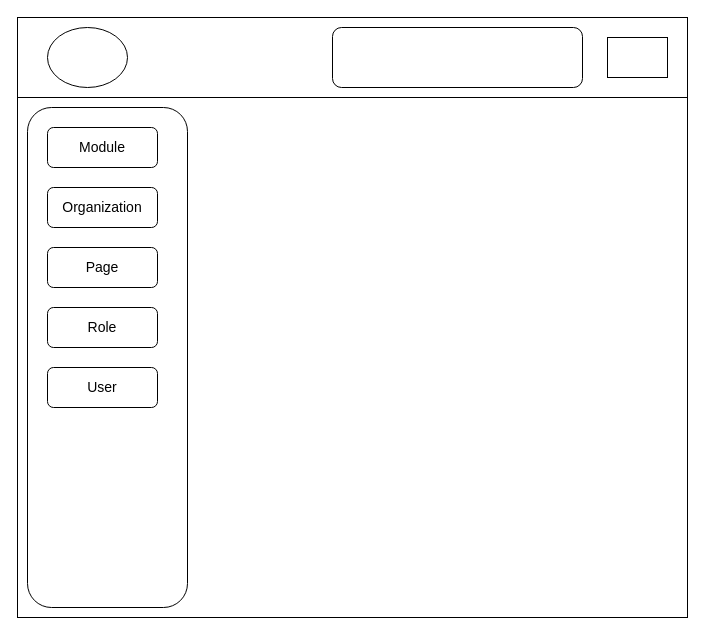
Image size: 705x635. Some labels were removed from this diagram. The shapes that lost their labels are listed below. From the top down, each one's box as (x1, y1, x2, y2) in pixels, then its label:
(46, 26, 128, 88): Logo
(332, 26, 582, 88): Nav Links
(606, 36, 668, 78): Signout
